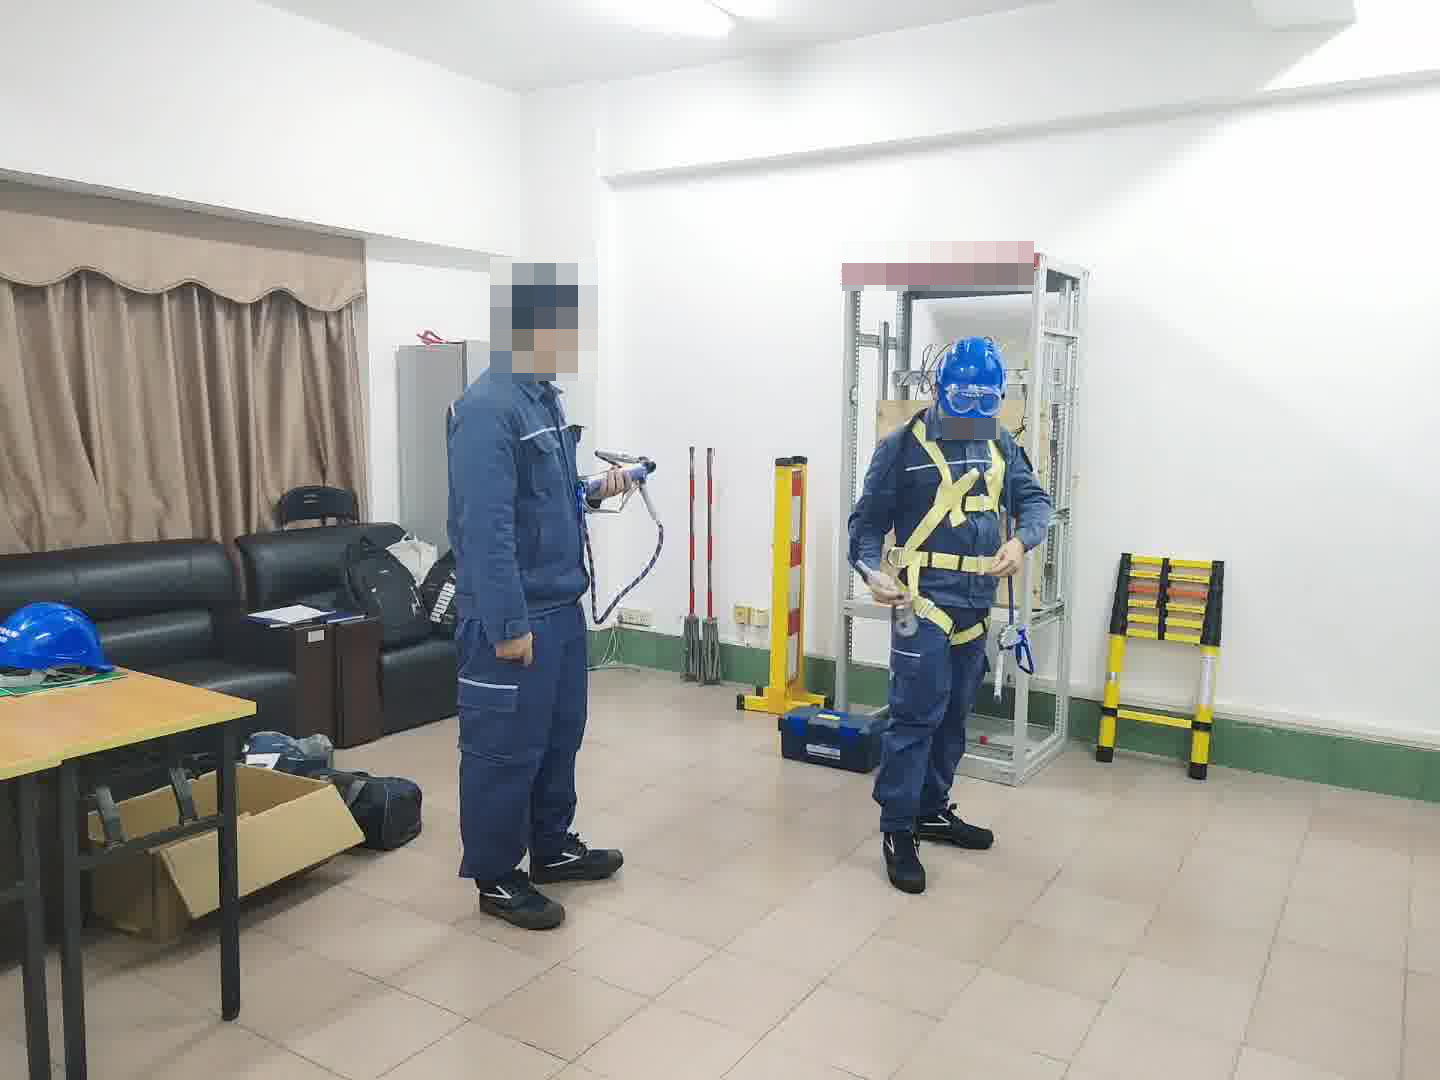downsuit: (455, 627, 592, 873), (874, 595, 996, 823)
halt: (934, 335, 1009, 428)
hand: (987, 535, 1027, 578), (494, 632, 534, 667), (595, 469, 634, 502)
noear: (525, 305, 556, 355)
person: (841, 332, 1050, 893), (447, 265, 617, 919)
safebelt: (879, 412, 1012, 648)
unhalt: (497, 268, 593, 371)
upsuit: (449, 357, 590, 606), (849, 405, 1047, 572)
